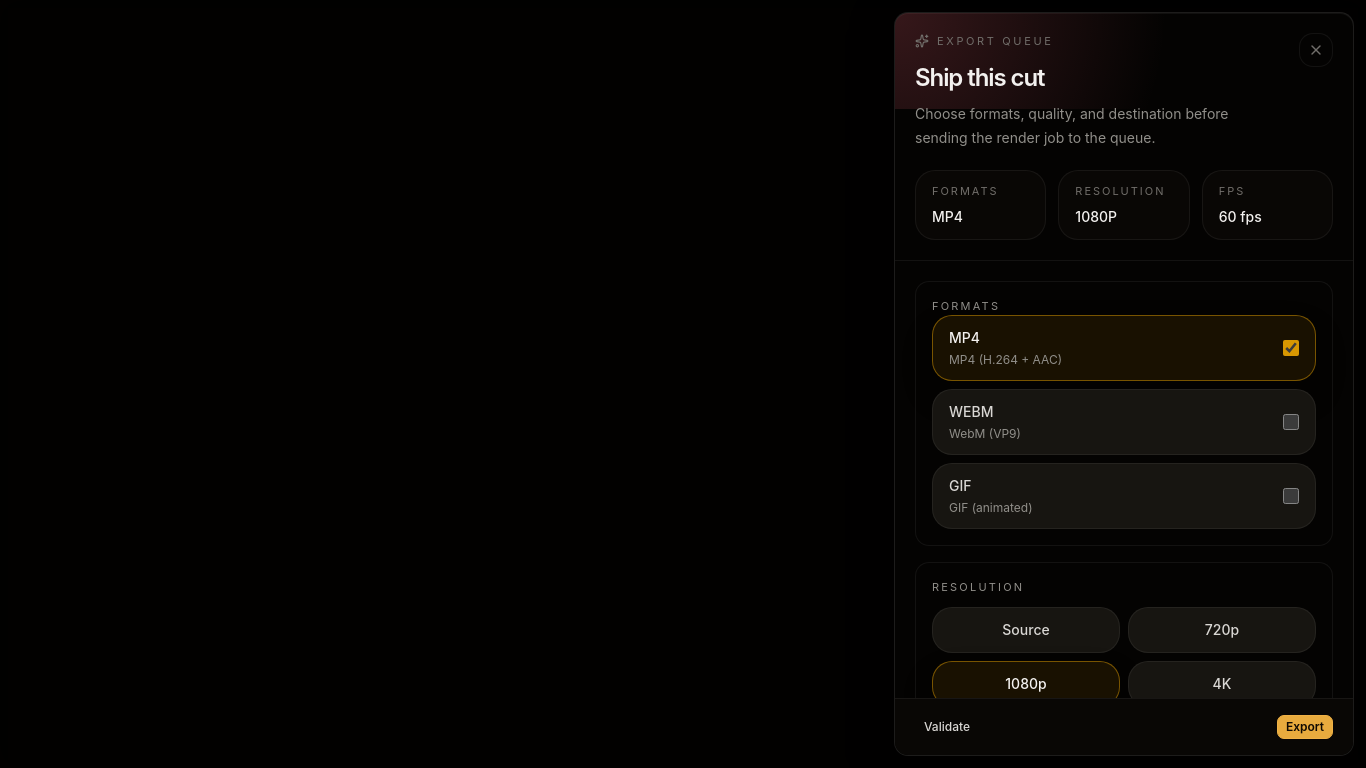
Test: ExportModal › surfaces export_run fail-fast errors in the warning panel
Step 1. Click the button with aria-label "start export" → [1305, 727], box [1277,715,1333,739]
(page scrolled)
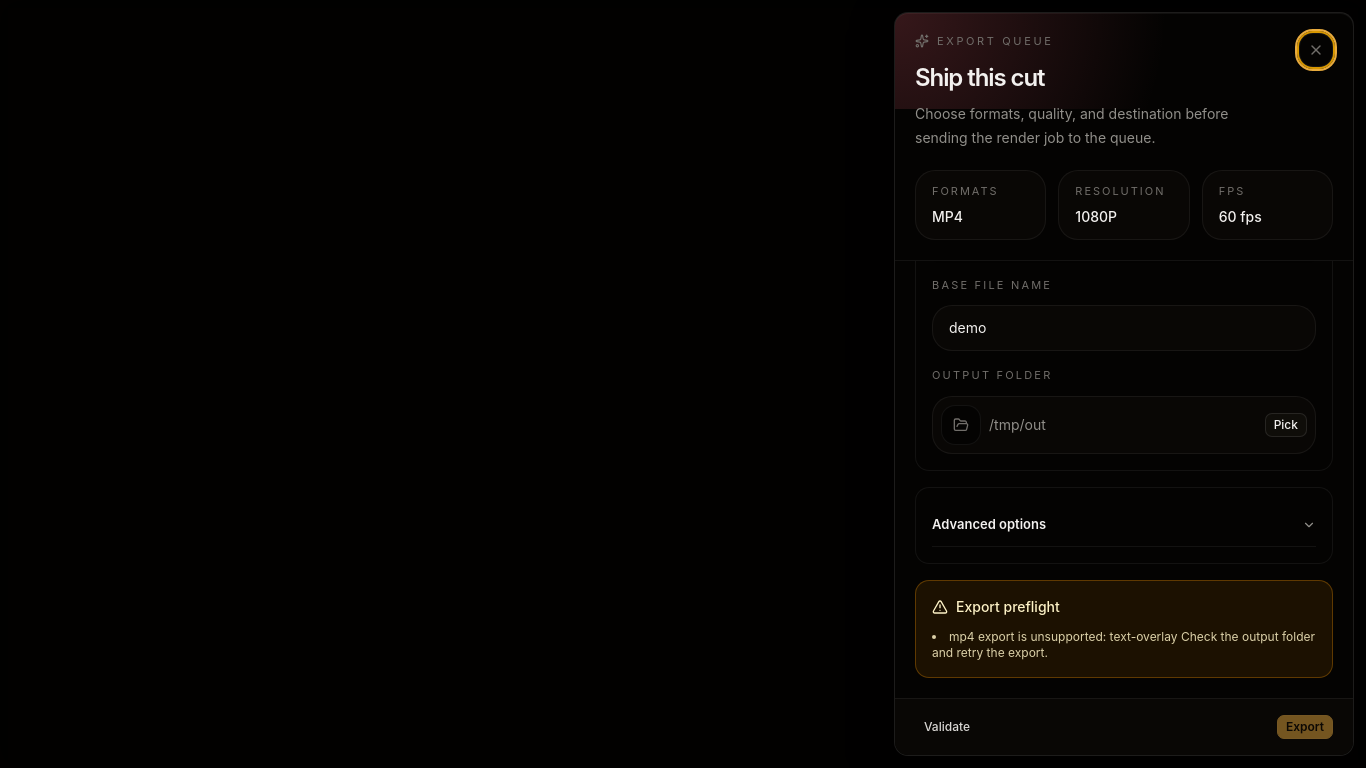
Check: the list item "mp4 export is unsupported: text-overlay" is shown, box [949,628,1178,644]
